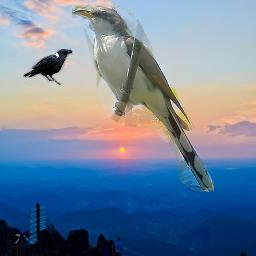Crow: (23, 49, 73, 85)
Cuckoo: (72, 5, 214, 192)
